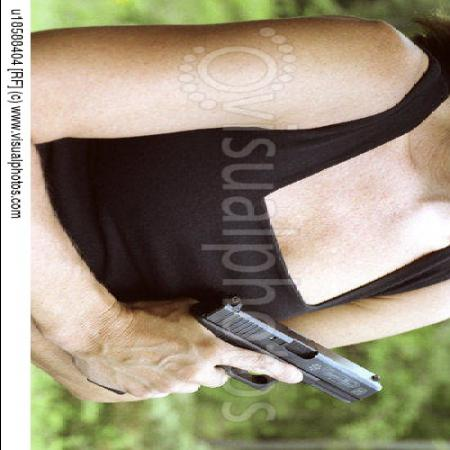Pistol: (186, 292, 388, 409)
